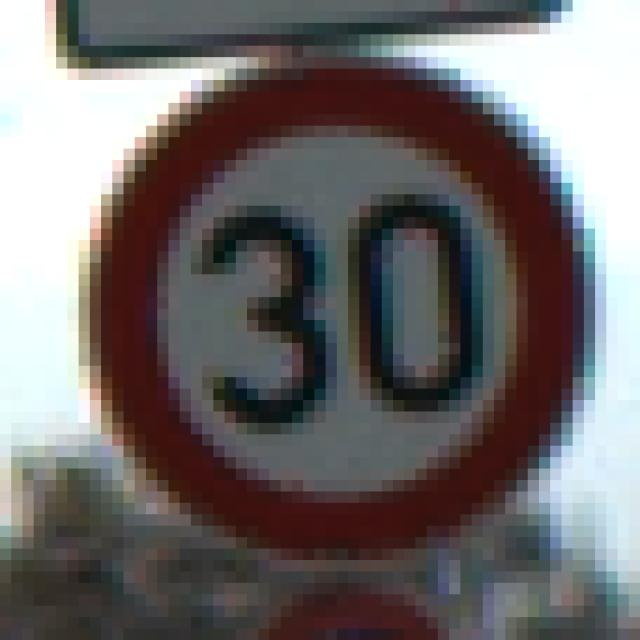Speed Limit -30-: (62, 52, 578, 577)
